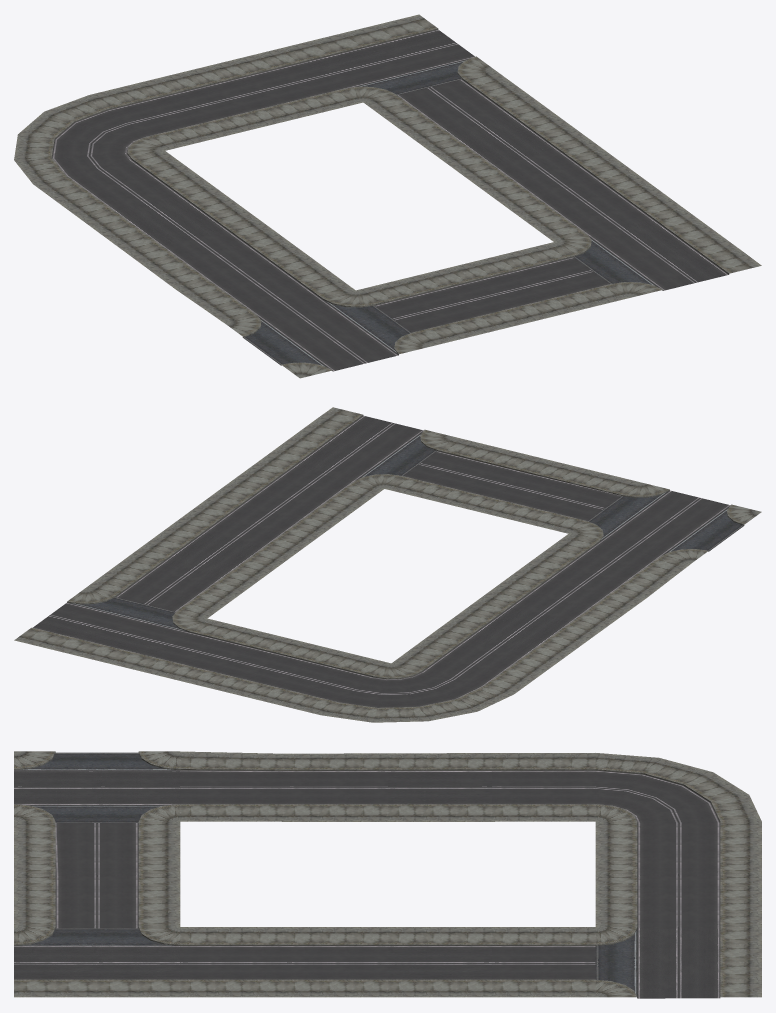
File: cunte_roads88.obj
3 views of the same model, one above another, from view 1: azimuth 30°, elevation 25°; view 2: azimuth 150°, elevation 25°; view 3: azimuth 270°, elevation 25° (orthographic). The views are drawn at different scales.
Visible parts, largest first — view 1: cunte_roads88; view 2: cunte_roads88; view 3: cunte_roads88.
Part boxes in pixels (bbox=[...]): cunte_roads88: bbox=[14, 14, 761, 378]; cunte_roads88: bbox=[14, 407, 761, 722]; cunte_roads88: bbox=[14, 751, 761, 998].
Size of the model in its own units: 70.05 by 0.2956 by 90.01.
